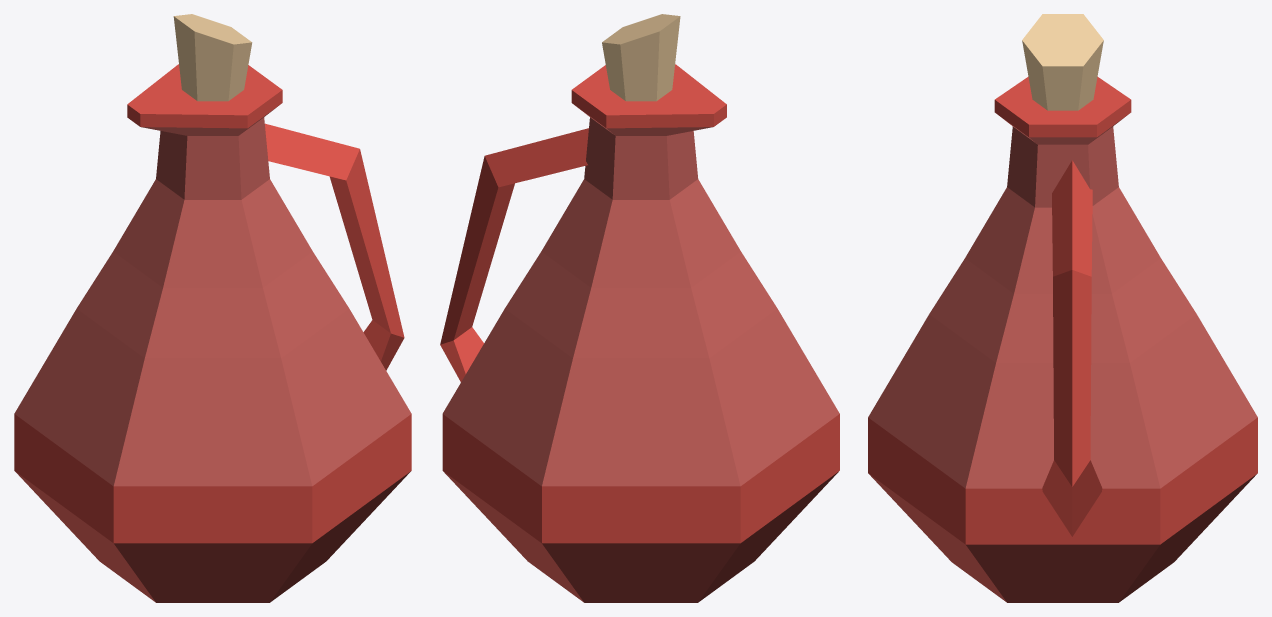
File: Bottle_10.glb
3 renders of one model, left to right at view 1: azimuth 30°, elevation 25°; view 2: azimuth 150°, elevation 25°; view 3: azimuth 270°, elevation 25°, orthographic.
Parts seen in each view (by area): view 1: Bottle_10; view 2: Bottle_10; view 3: Bottle_10.
Part boxes in pixels (<box>): Bottle_10: <box>14,14,411,602</box>; Bottle_10: <box>440,14,839,602</box>; Bottle_10: <box>868,14,1257,602</box>.
Size of what is drawn, in the model's own units: 0.4103 by 0.6184 by 0.4088.
Materials: 1 (1 with a texture image).
